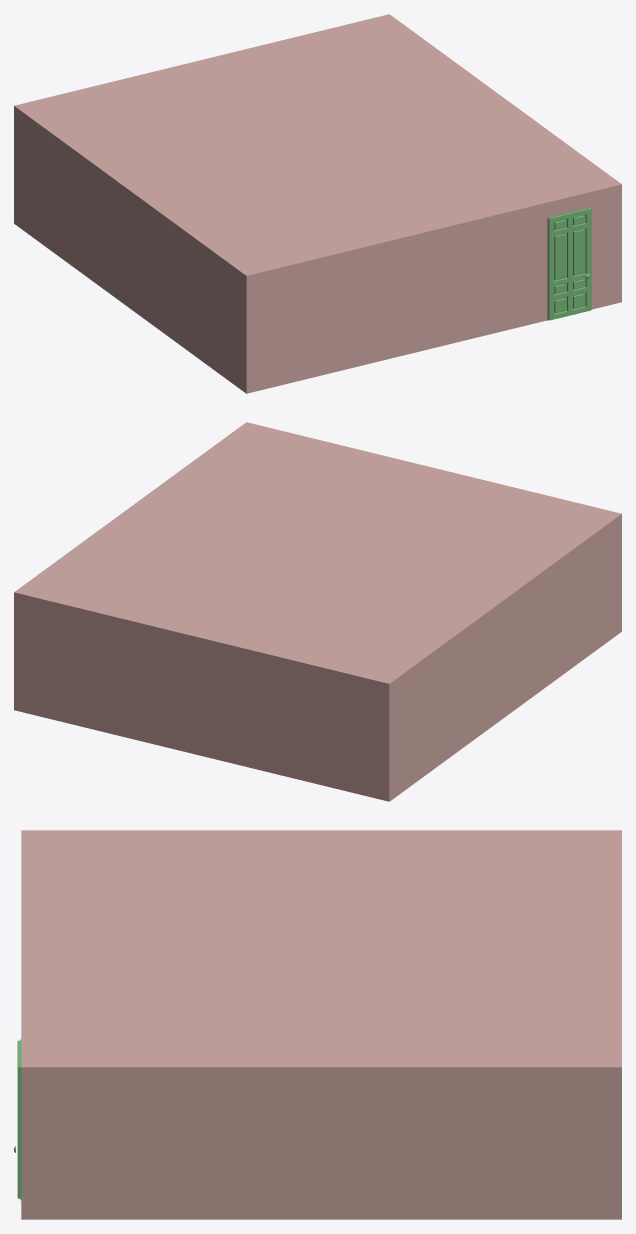
The model's file is Room 1.glb.
The picture shows the model from 3 angles, top to bottom: view 1: azimuth 30°, elevation 25°; view 2: azimuth 150°, elevation 25°; view 3: azimuth 270°, elevation 25°; orthographic projection. The views are drawn at different scales.
Parts seen in each view (by area): view 1: Mesh_Mesh_head_geo.001_lambert2SG.001; view 2: Mesh_Mesh_head_geo.001_lambert2SG.001; view 3: Mesh_Mesh_head_geo.001_lambert2SG.001.
Part boxes in pixels (<box>): Mesh_Mesh_head_geo.001_lambert2SG.001: <box>14,14,621,393</box>; Mesh_Mesh_head_geo.001_lambert2SG.001: <box>14,422,621,801</box>; Mesh_Mesh_head_geo.001_lambert2SG.001: <box>14,830,621,1219</box>.
Bounding box in the file's own units: 40 × 12 × 43.41.
